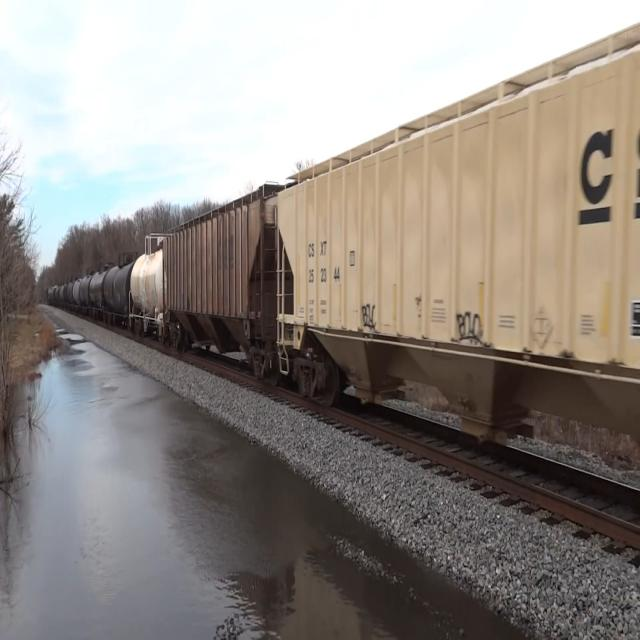hopper: (275, 0, 640, 443), (166, 180, 279, 382)
tank: (130, 240, 164, 342), (106, 255, 137, 332)
